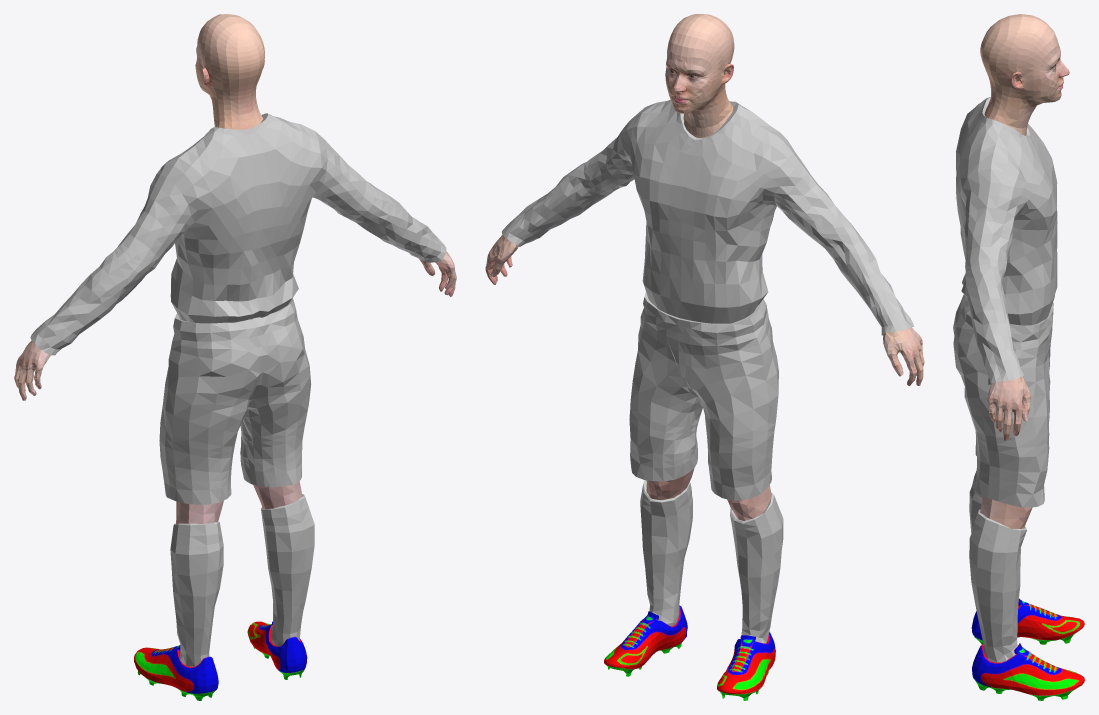
The model's file is long-tucked.obj.
The picture shows the model from 3 angles, left to right: view 1: azimuth 30°, elevation 25°; view 2: azimuth 150°, elevation 25°; view 3: azimuth 270°, elevation 25°; orthographic projection.
Parts seen in each view (by area): view 1: shirt, shorts.001, socks, head.003, boots.001, arms, knees.001; view 2: shirt, shorts.001, socks, head.003, boots.001, arms, knees.001; view 3: shirt, shorts.001, head.003, socks, boots.001, arms, knees.001.
Part boxes in pixels (x1,y1,x2,y2): shirt: [30, 113, 446, 355]; shorts.001: [159, 298, 311, 504]; socks: [170, 494, 314, 666]; head.003: [195, 14, 264, 129]; boots.001: [134, 621, 307, 700]; arms: [14, 251, 456, 400]; knees.001: [176, 481, 302, 524]; shirt: [501, 99, 913, 335]; shorts.001: [629, 292, 778, 500]; socks: [640, 480, 783, 643]; head.003: [665, 14, 734, 137]; boots.001: [604, 605, 775, 700]; arms: [485, 235, 924, 385]; knees.001: [646, 468, 771, 520]; shirt: [956, 97, 1057, 384]; shorts.001: [953, 294, 1053, 507]; head.003: [980, 14, 1069, 135]; socks: [969, 471, 1026, 662]; boots.001: [971, 598, 1084, 700]; arms: [987, 376, 1030, 440]; knees.001: [980, 495, 1032, 528].
Size of the model in its own units: 1.24 by 1.79 by 0.3289.
